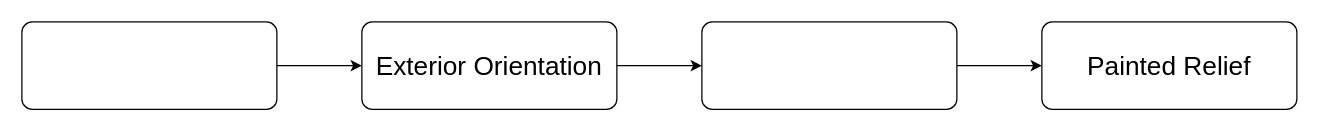
This 1319x131 diagram has some shape labels left out. The centre of each missing label's shape, as x and y in pixels:
Enhanced Automatic Terrain Extraction: the point at 829,65
Interior Orientation: the point at 149,65
